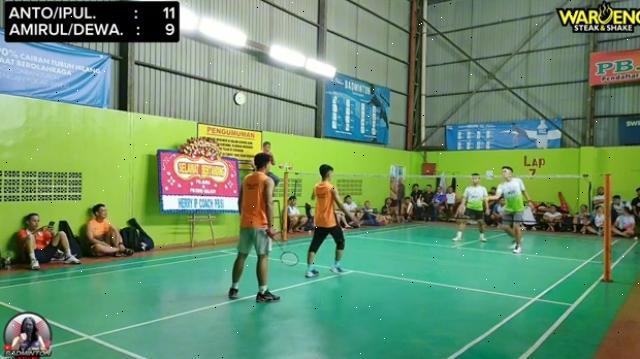Shuttlecock: (414, 196, 426, 210)
